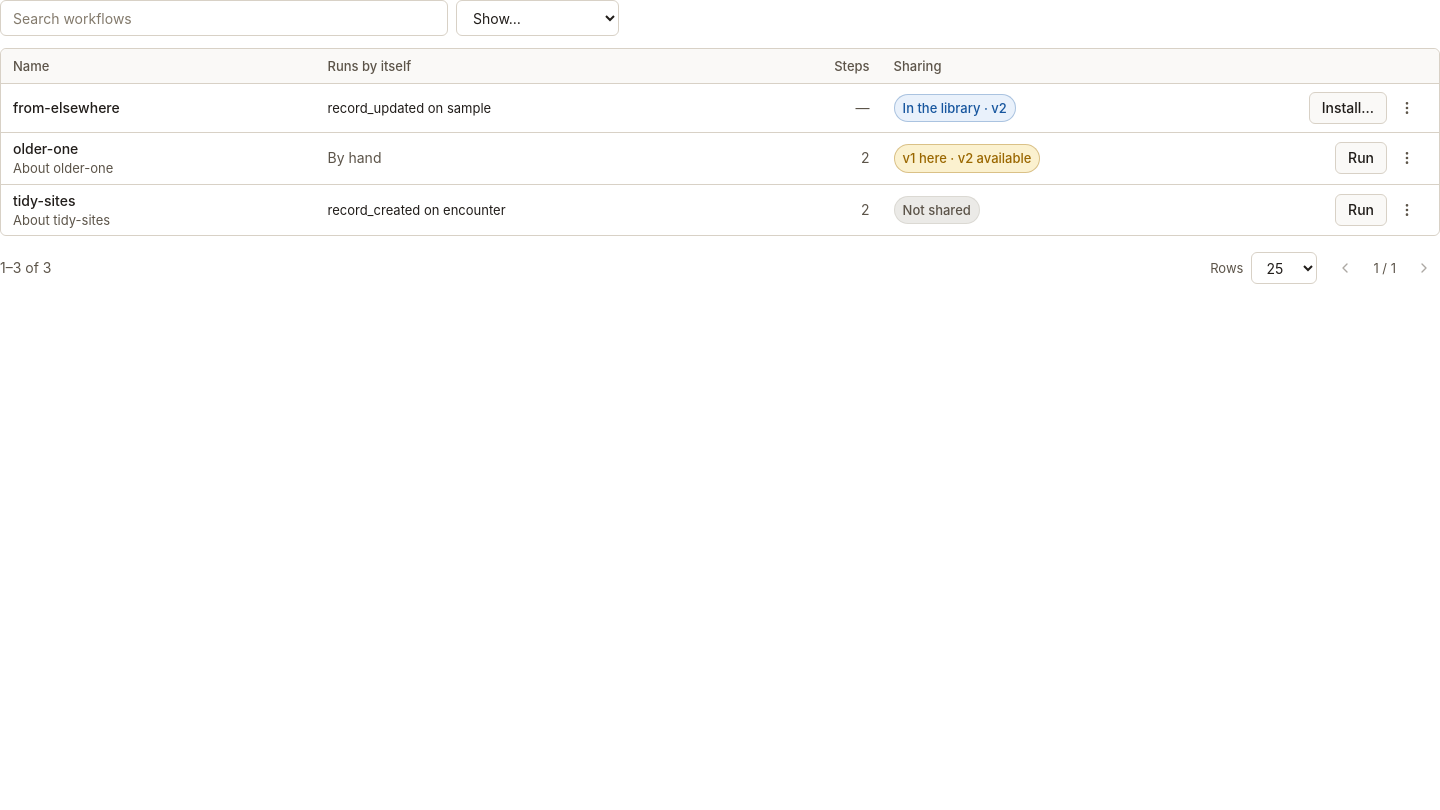
Test: Workflows list › publishes from a row
Click the button named "More for tidy-sites": (1407, 210) [1391,194,1423,226]
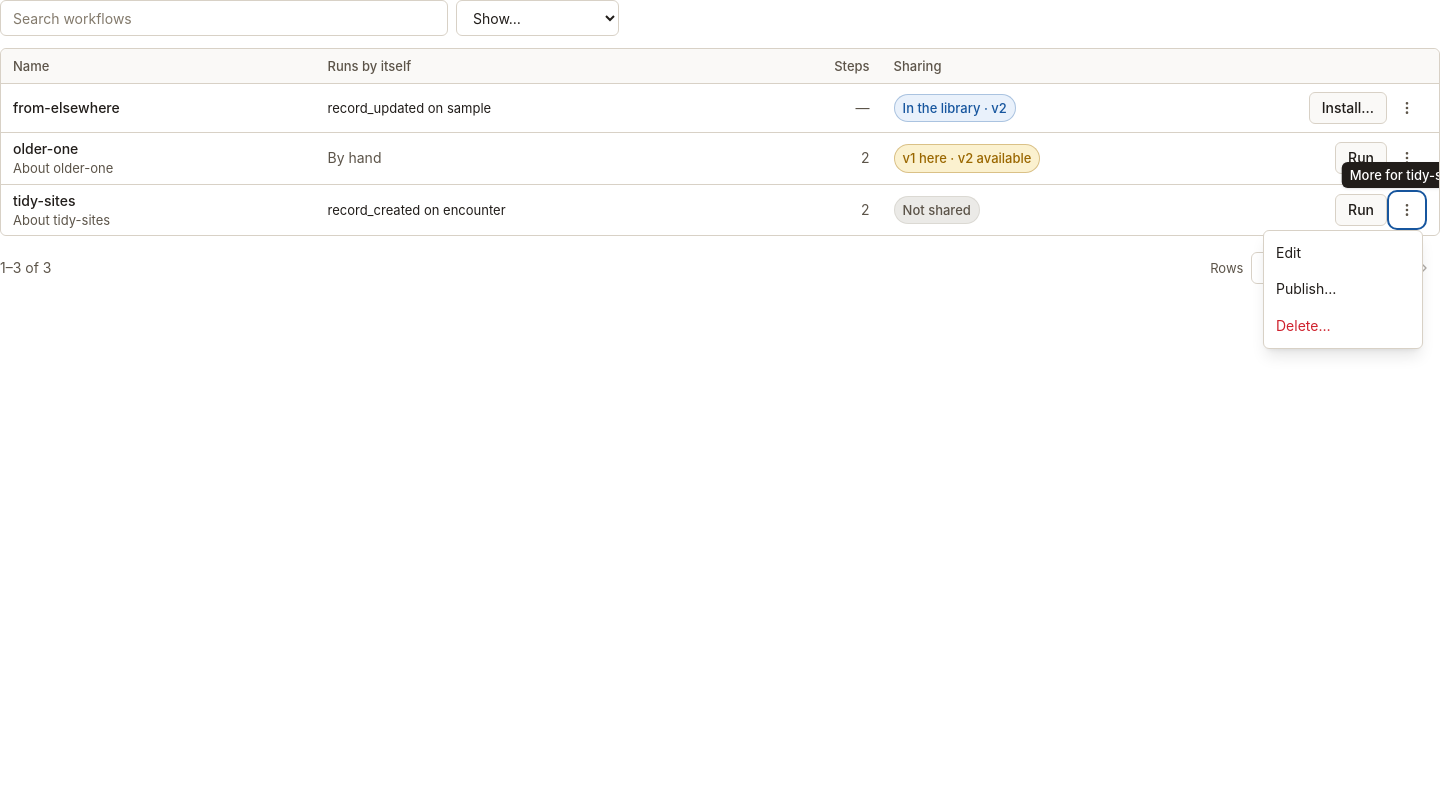
Click the menu item "Publish…": (1343, 289) [1264,271,1422,308]
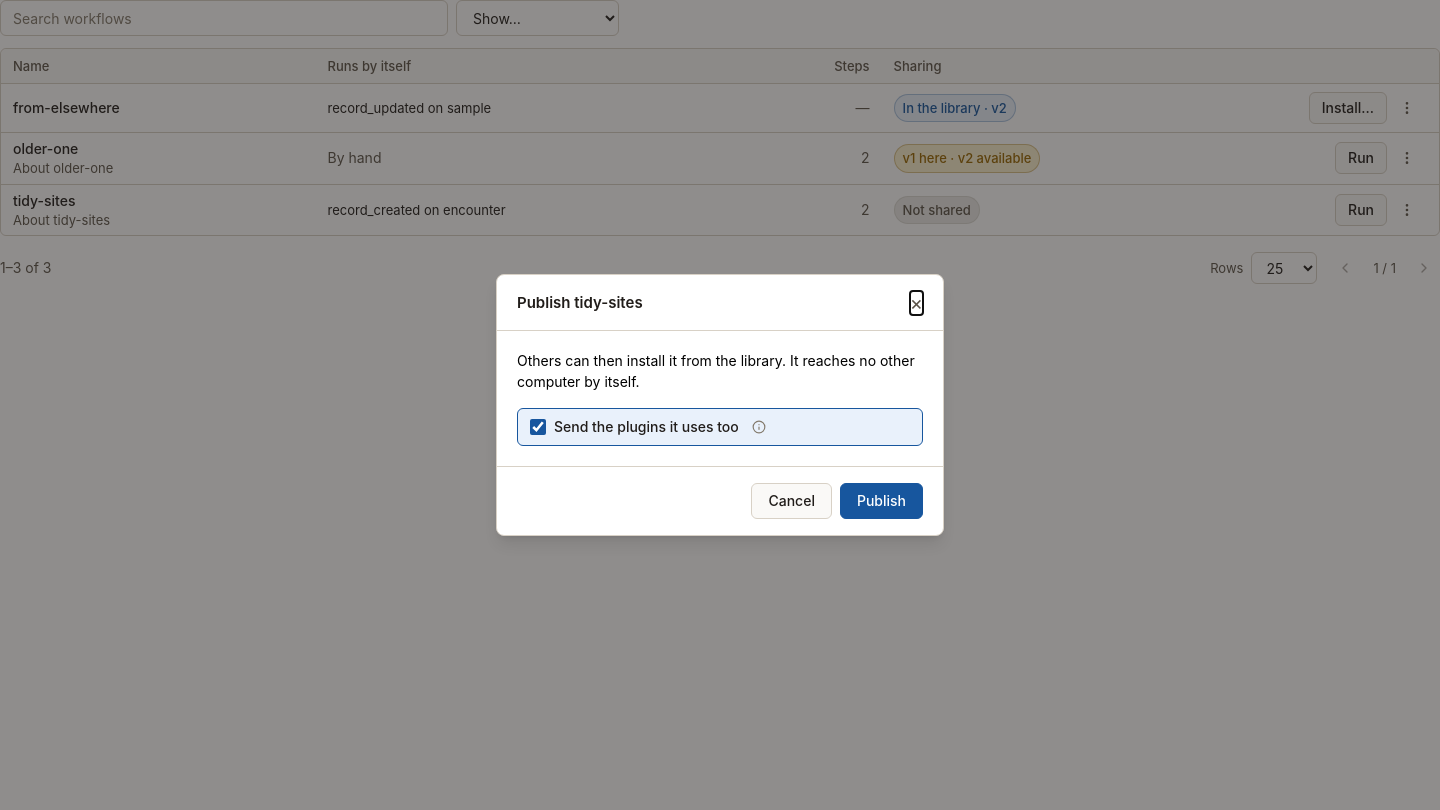
Click the button "Publish": (881, 501) [840,483,923,519]
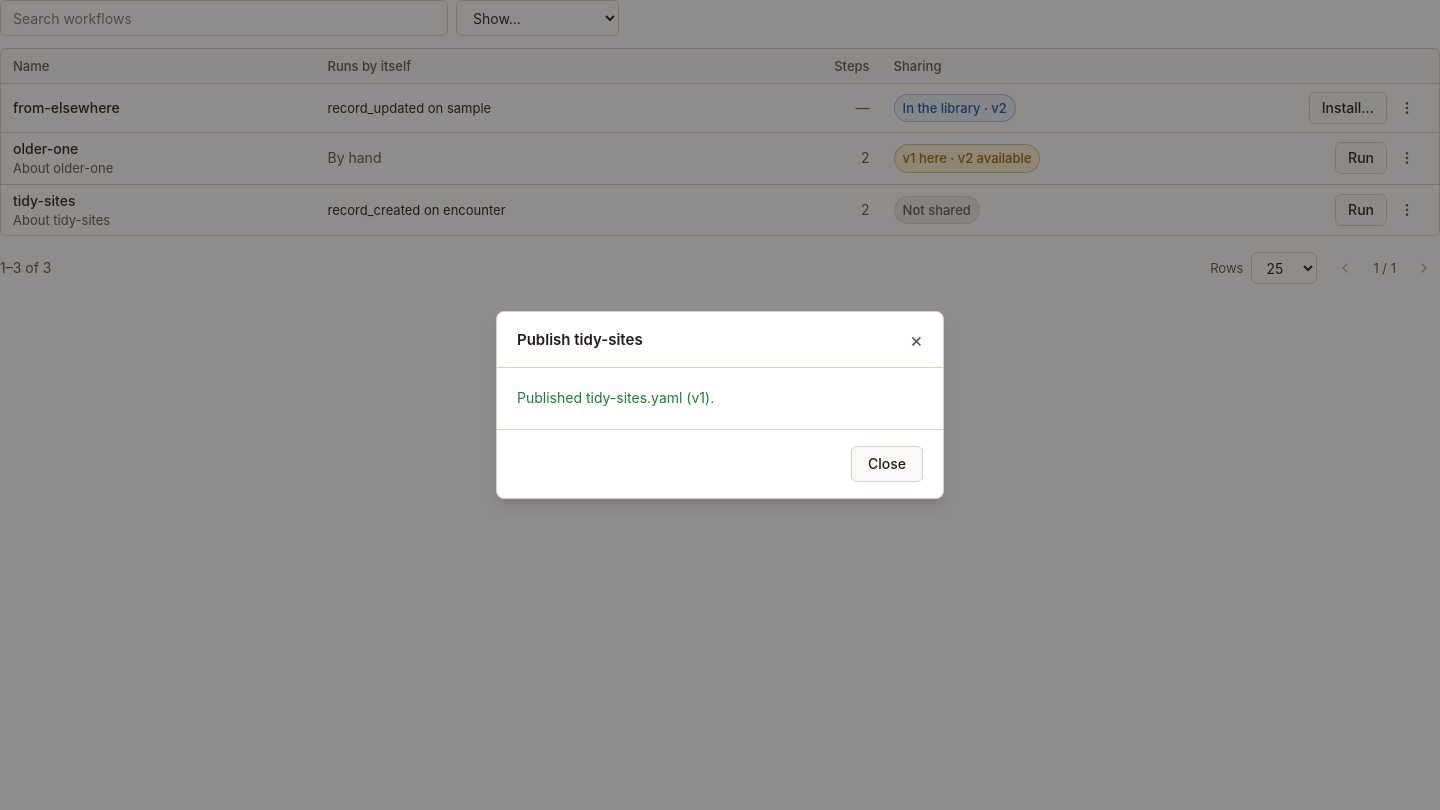
Expected: the text "Published tidy-sites.yaml (v1)." is shown, [517,390,714,406]
